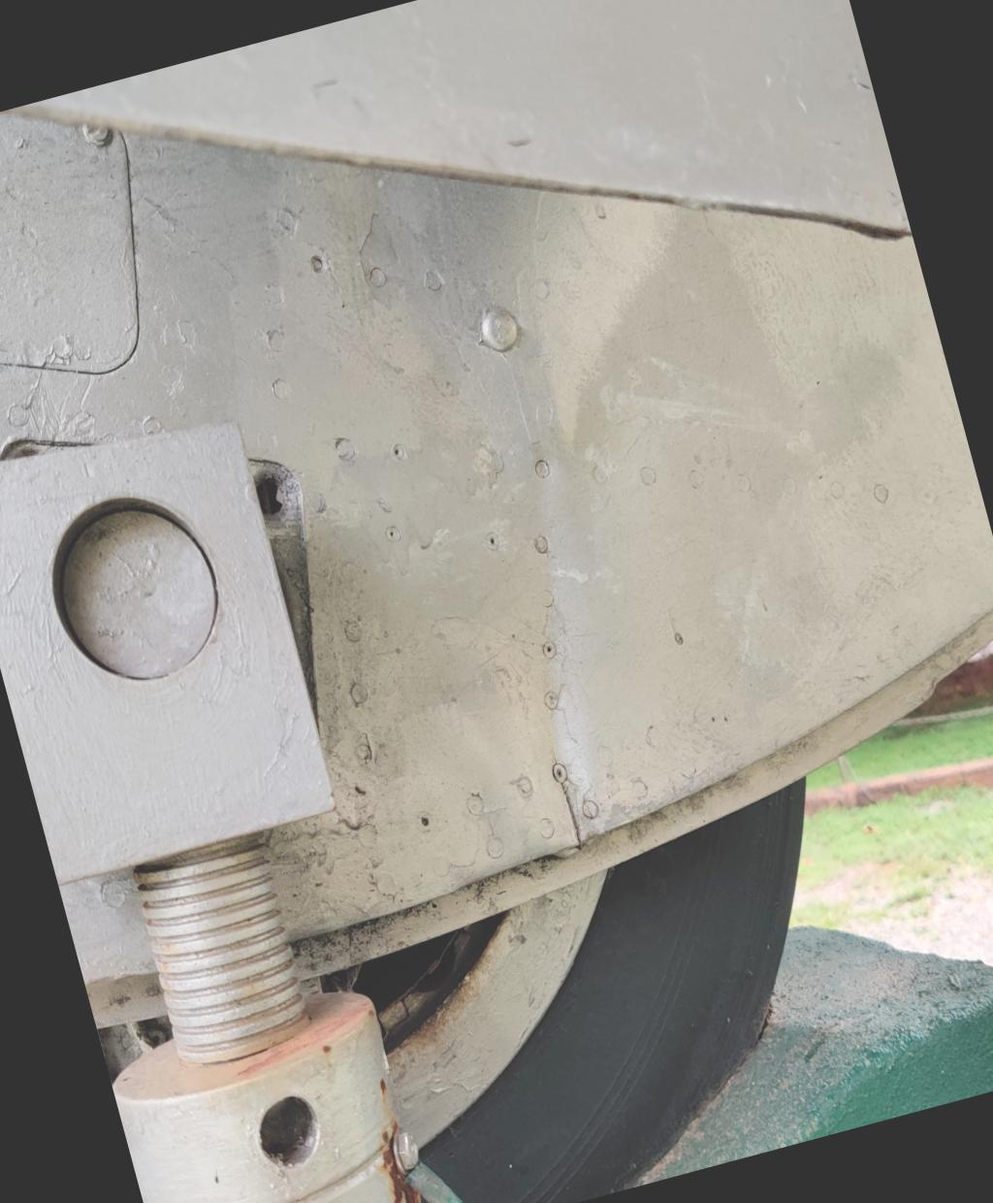crack: (536, 752, 613, 861)
